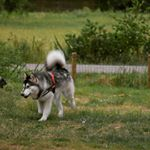puppy: (19, 45, 86, 124)
